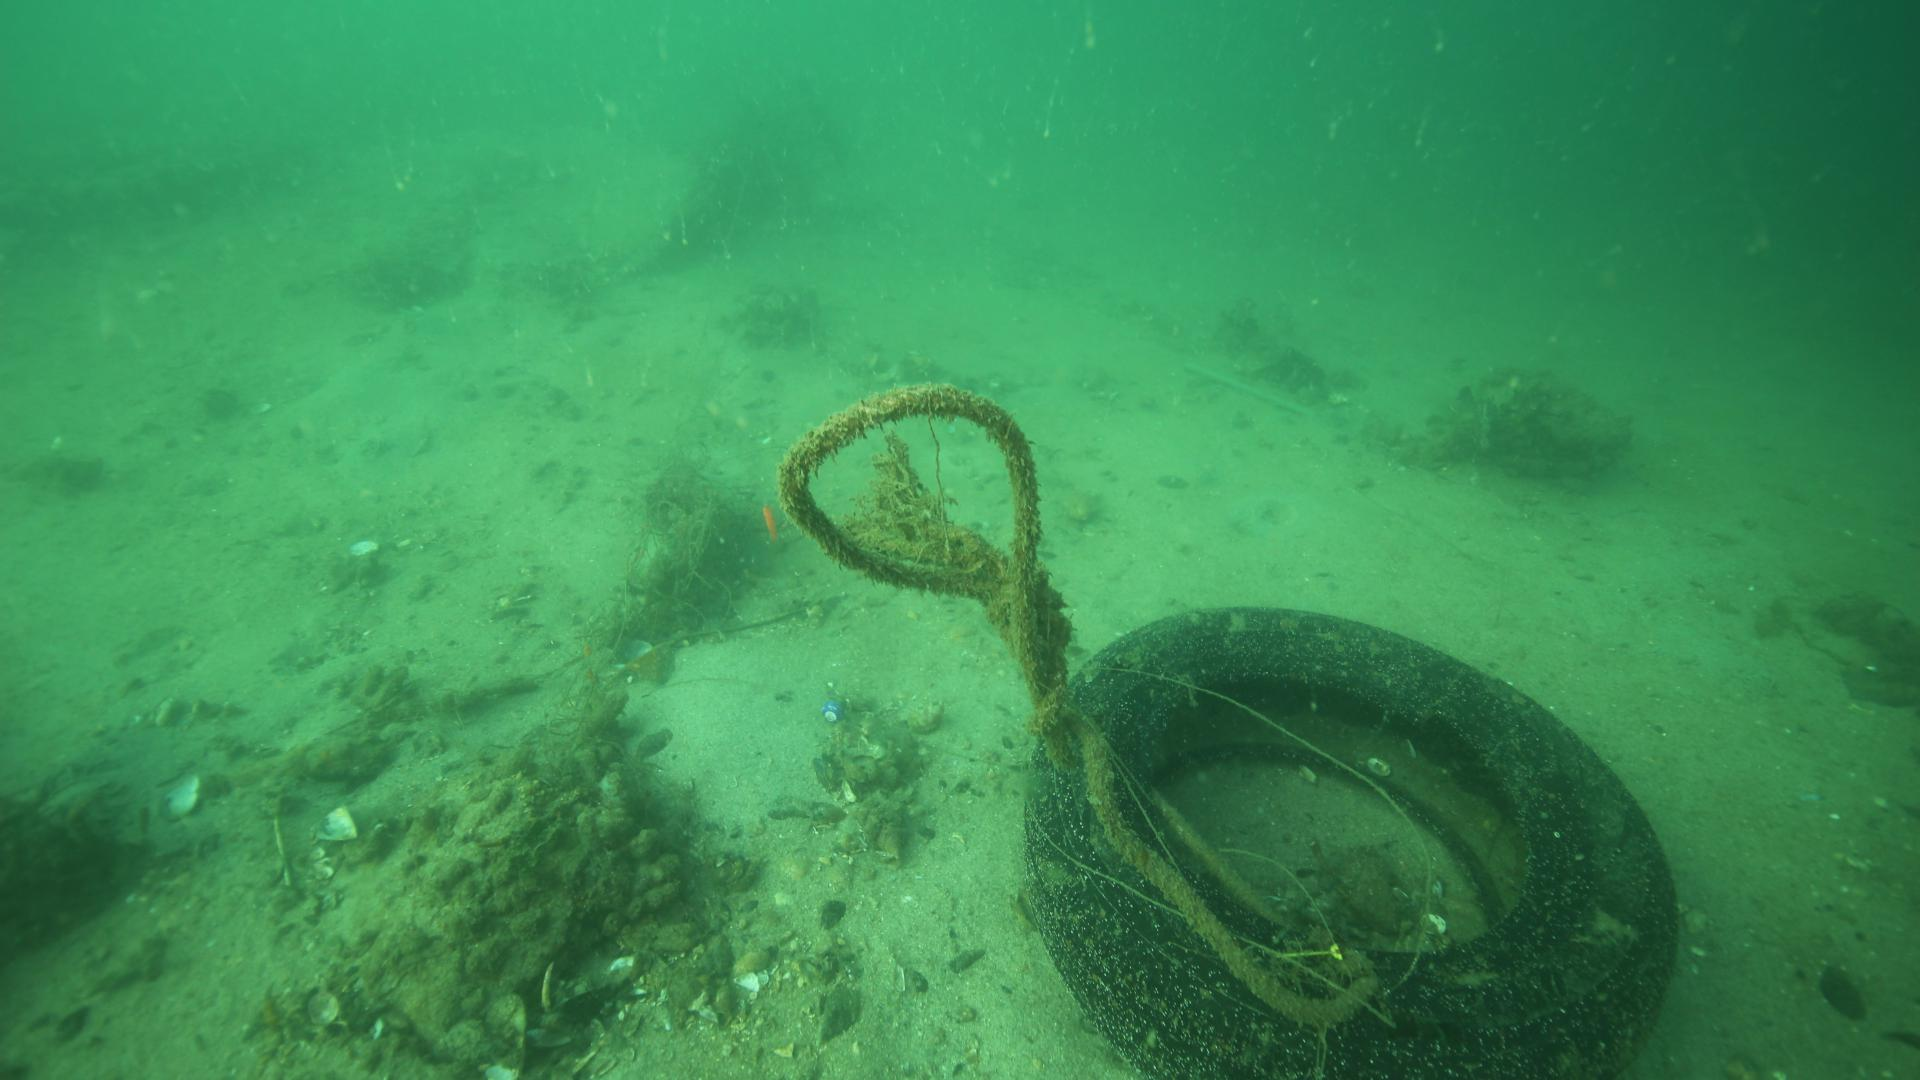bundle of ropes: (773, 384, 1379, 1029)
tire: (1021, 603, 1683, 1077)
